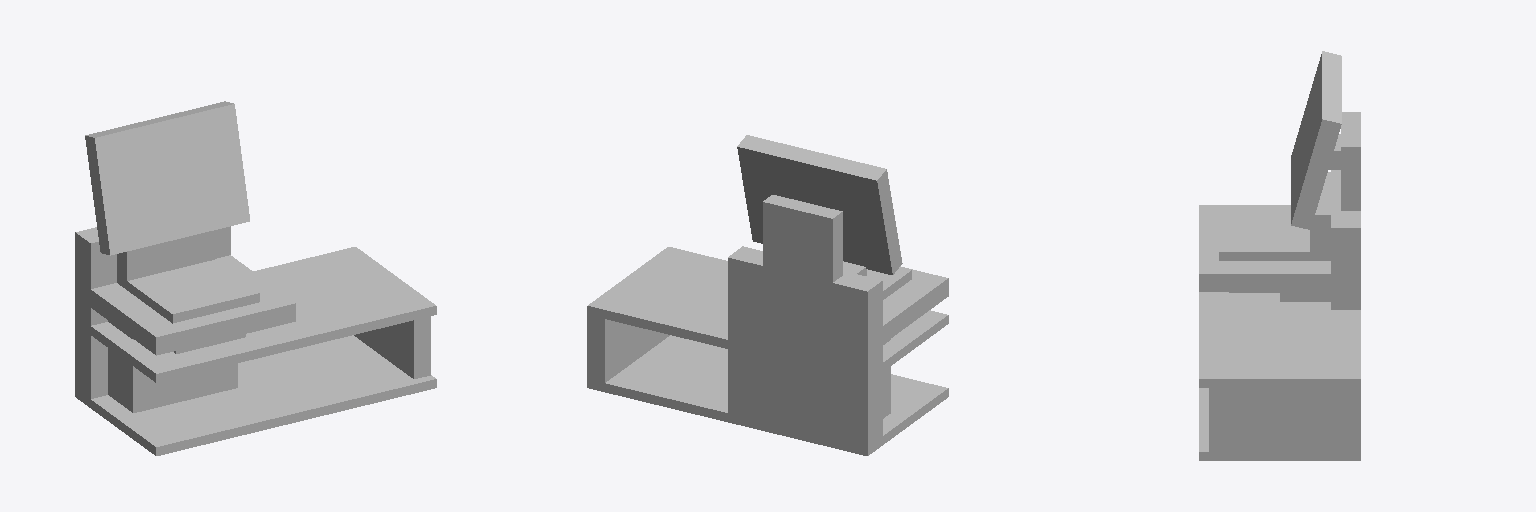
File: till_shop_mk2.obj
The picture shows the model from 3 angles: view 1: azimuth 30°, elevation 25°; view 2: azimuth 150°, elevation 25°; view 3: azimuth 270°, elevation 25°; orthographic projection.
Parts seen in each view (by area): view 1: cube; view 2: cube; view 3: cube.
Part boxes in pixels (left/top/right/bottom): cube: left=75, top=101, right=436, bottom=455; cube: left=587, top=135, right=948, bottom=455; cube: left=1199, top=51, right=1360, bottom=460.
Size of the model in its own units: 2 by 1.87 by 1.